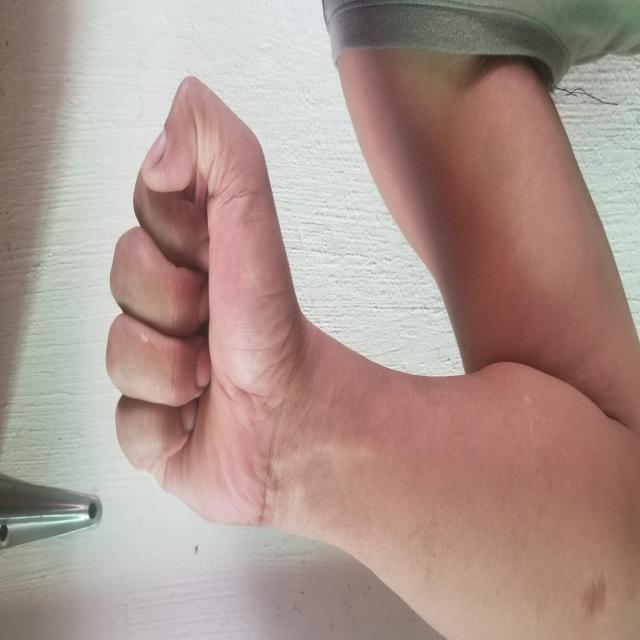A: (111, 104, 567, 292)
